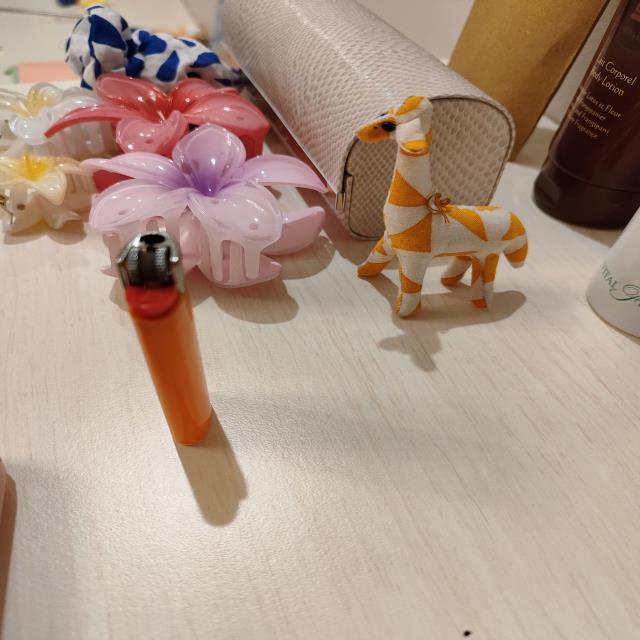lighter: (116, 232, 212, 444)
